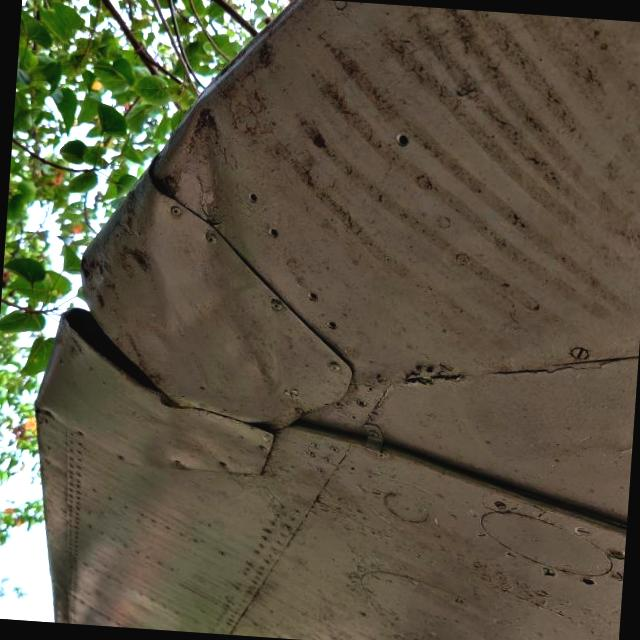dent: (100, 130, 318, 422)
